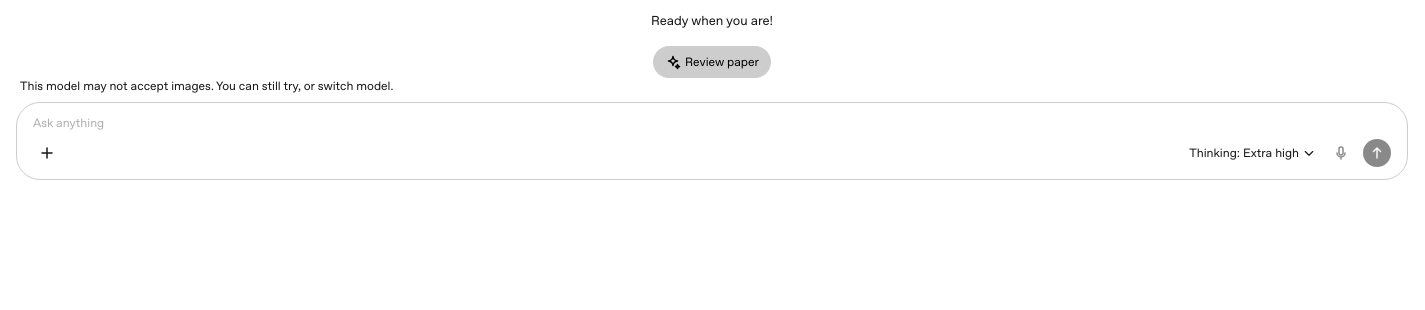
Test: Composer › switches the thinking level
Click the button labelled "Thinking: Extra high": point(1252, 153) top-left (1181, 139), bottom-right (1323, 167)
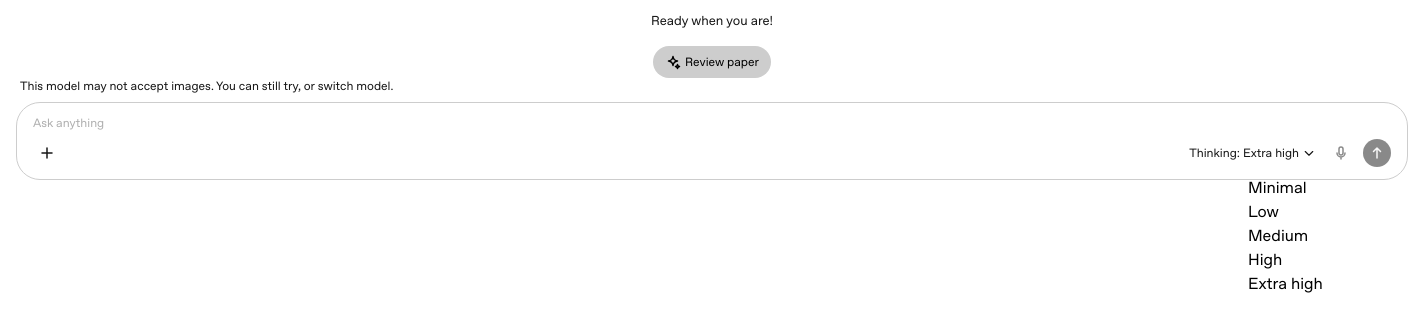
Click the menu item "High": point(1265, 260) top-left (1248, 250), bottom-right (1282, 269)
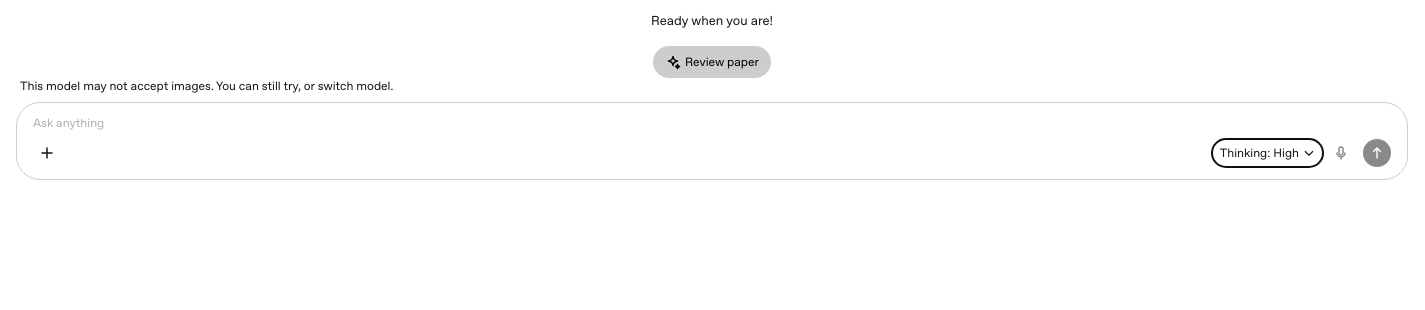
Expected: the button labelled "Thinking: High" is shown, top-left (1212, 139), bottom-right (1323, 167)
